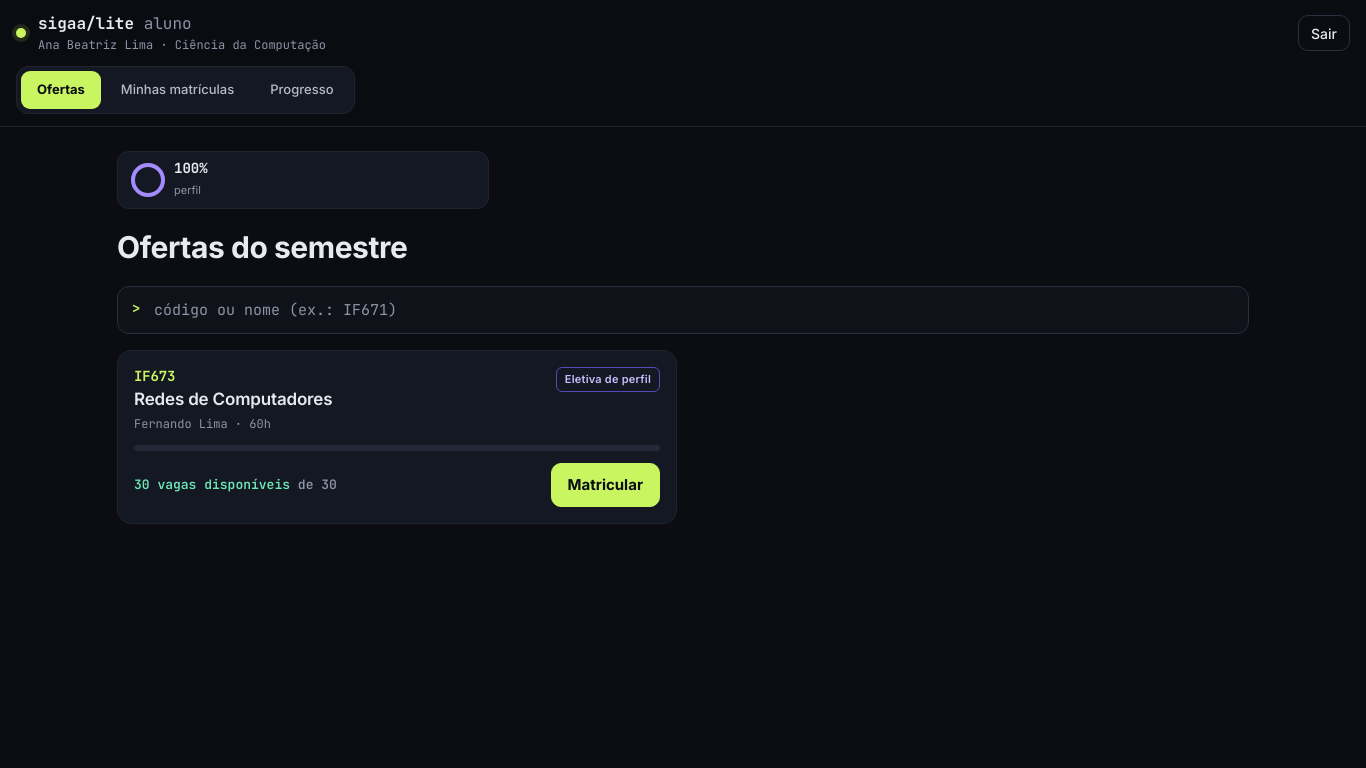
Test: confirmação de matrícula › como conta no progresso › com o perfil já completo, avisa que conta como eletiva livre (regra 11)
This screenshot has width=1366, height=768.
Click the button with aria-label "Matricular em IF673". click: (605, 485)
box: [550,463,660,507]
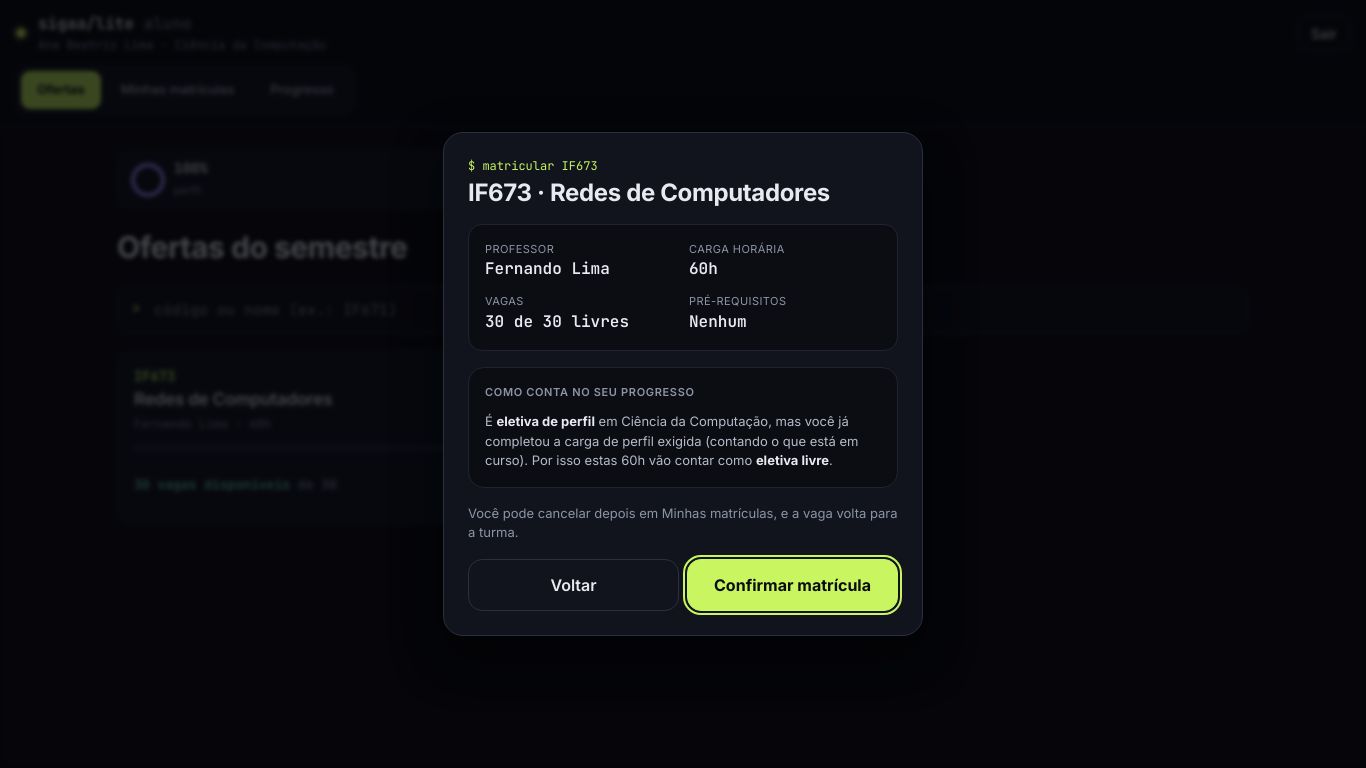
Expected: the element named "Como conta no seu progresso" shows "estas 60h vão contar como eletiva livre", [468,367,898,488]
